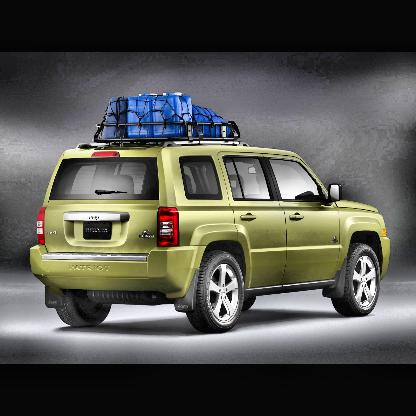Jeep Patriot SUV 2012: (29, 92, 391, 333)
